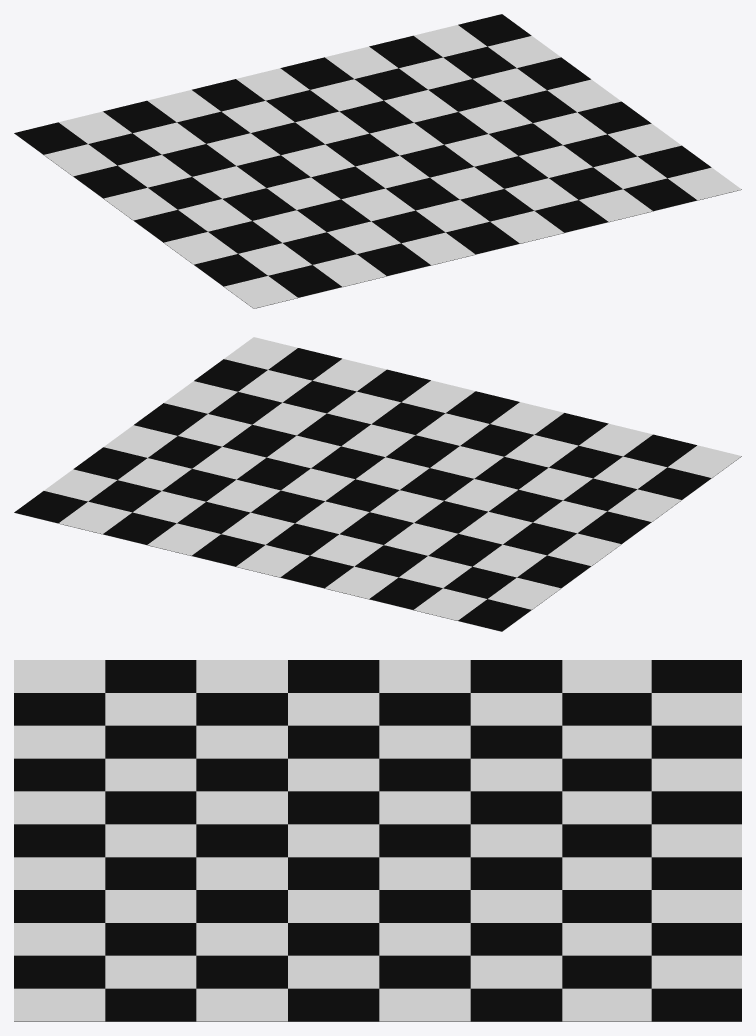
File: Piso.fbx
The picture shows the model from 3 angles, top to bottom: view 1: azimuth 30°, elevation 25°; view 2: azimuth 150°, elevation 25°; view 3: azimuth 270°, elevation 25°; orthographic projection. The views are drawn at different scales.
Parts seen in each view (by area): view 1: Piso; view 2: Piso; view 3: Piso.
Boxes of the visible parts, <box> form: Piso: <box>14,14,741,308</box>; Piso: <box>14,337,741,631</box>; Piso: <box>14,660,741,1021</box>.
Bounding box in the file's own units: 3760 × 2 × 3200.
1 material, 1 textured.
